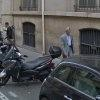Motorcycle: (3, 33, 52, 90)
